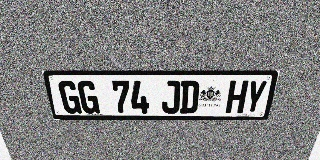4: (130, 81, 149, 113)
7: (110, 81, 131, 114)
D: (180, 81, 200, 113)
G: (57, 81, 82, 114), (77, 81, 100, 114)
H: (225, 81, 249, 113)
J: (162, 81, 181, 113)
Y: (243, 81, 268, 113)
